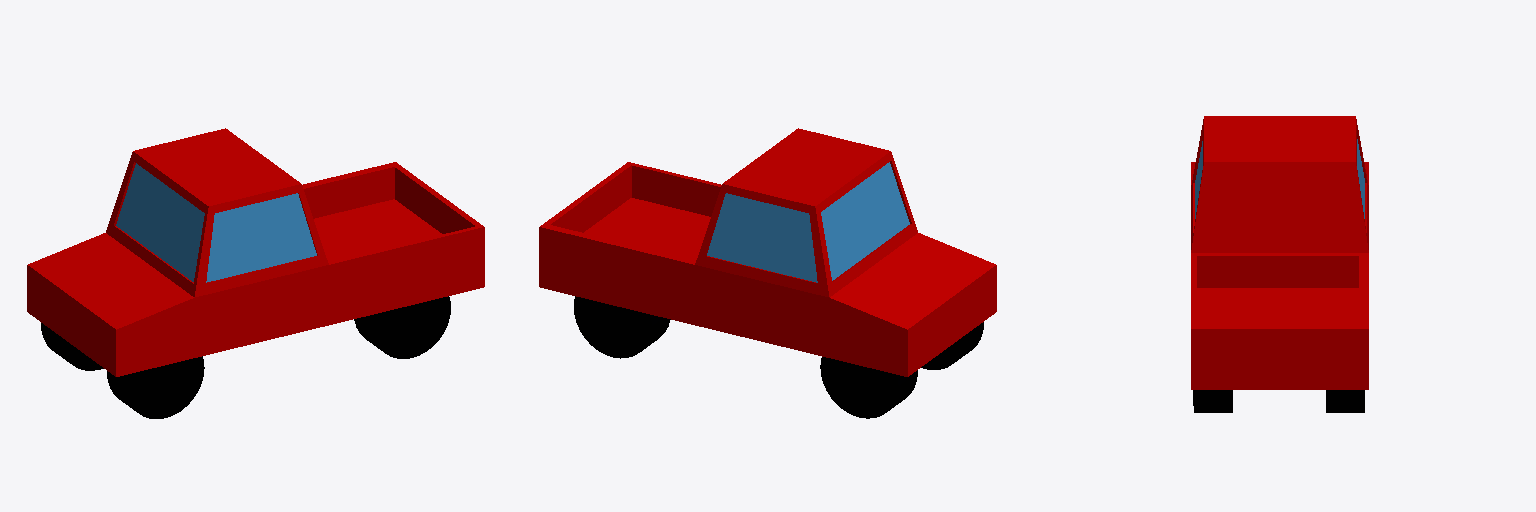
Rendered from truck.obj.
The picture shows the model from 3 angles: view 1: azimuth 30°, elevation 25°; view 2: azimuth 150°, elevation 25°; view 3: azimuth 270°, elevation 25°; orthographic projection.
Parts seen in each view (by area): view 1: Cube, Cylinder, Cylinder.003, Cylinder.001; view 2: Cube, Cylinder.001, Cylinder.002, Cylinder; view 3: Cube, Cylinder.003, Cylinder.002.
Boxes of the visible parts, <box> form: Cube: <box>27,128,484,376</box>; Cylinder: <box>107,356,204,418</box>; Cylinder.003: <box>354,296,450,358</box>; Cylinder.001: <box>41,323,103,370</box>; Cube: <box>539,128,996,376</box>; Cylinder.001: <box>820,357,917,418</box>; Cylinder.002: <box>574,296,670,358</box>; Cylinder: <box>921,322,983,369</box>; Cube: <box>1191,116,1368,389</box>; Cylinder.003: <box>1193,390,1232,412</box>; Cylinder.002: <box>1326,390,1364,412</box>.
Bounding box in the file's own units: 9.42 × 4.79 × 3.94.